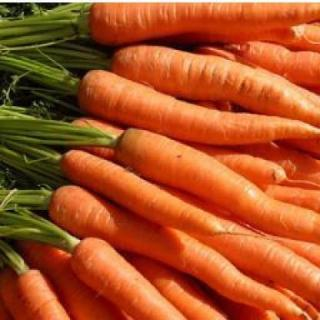Wortel: (111, 127, 319, 237), (79, 69, 320, 147), (67, 237, 197, 320), (90, 3, 320, 47)
